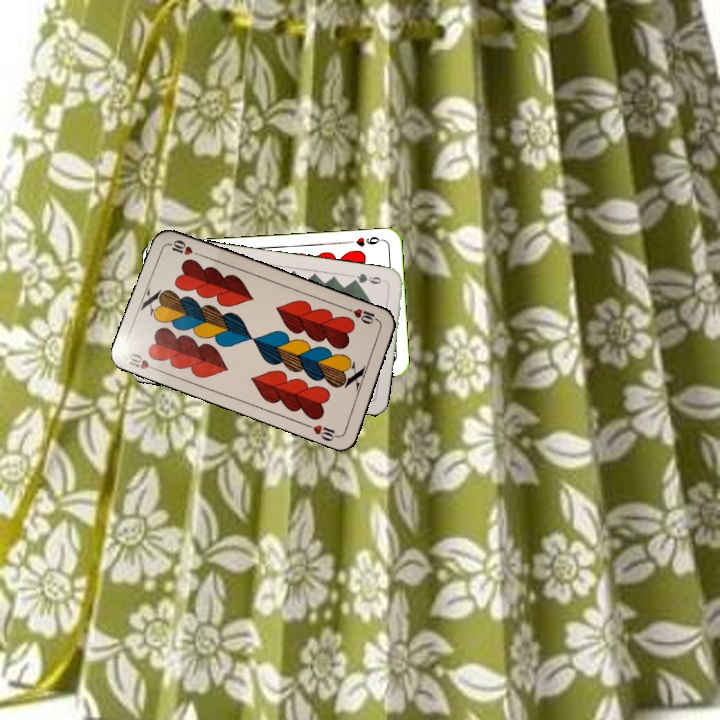G9: (347, 269, 389, 287)
H10: (124, 349, 163, 376), (343, 304, 383, 327)
H9: (345, 232, 386, 249)
